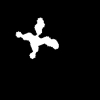single_crochet: (16, 18, 58, 58)
